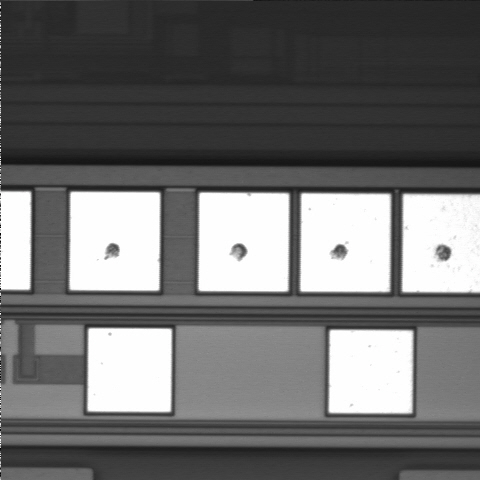pad: (70, 192, 160, 291), (199, 193, 289, 291), (300, 194, 390, 292), (88, 328, 172, 412), (329, 330, 413, 413)
